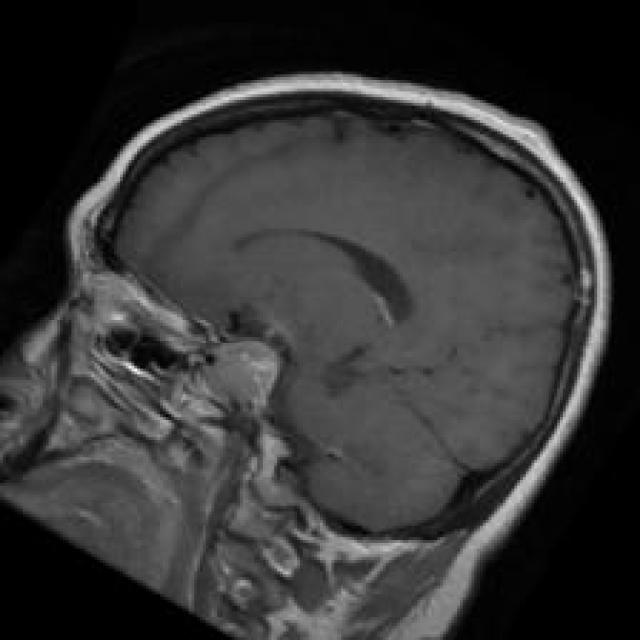pituitary_tumor: (188, 304, 295, 428)
